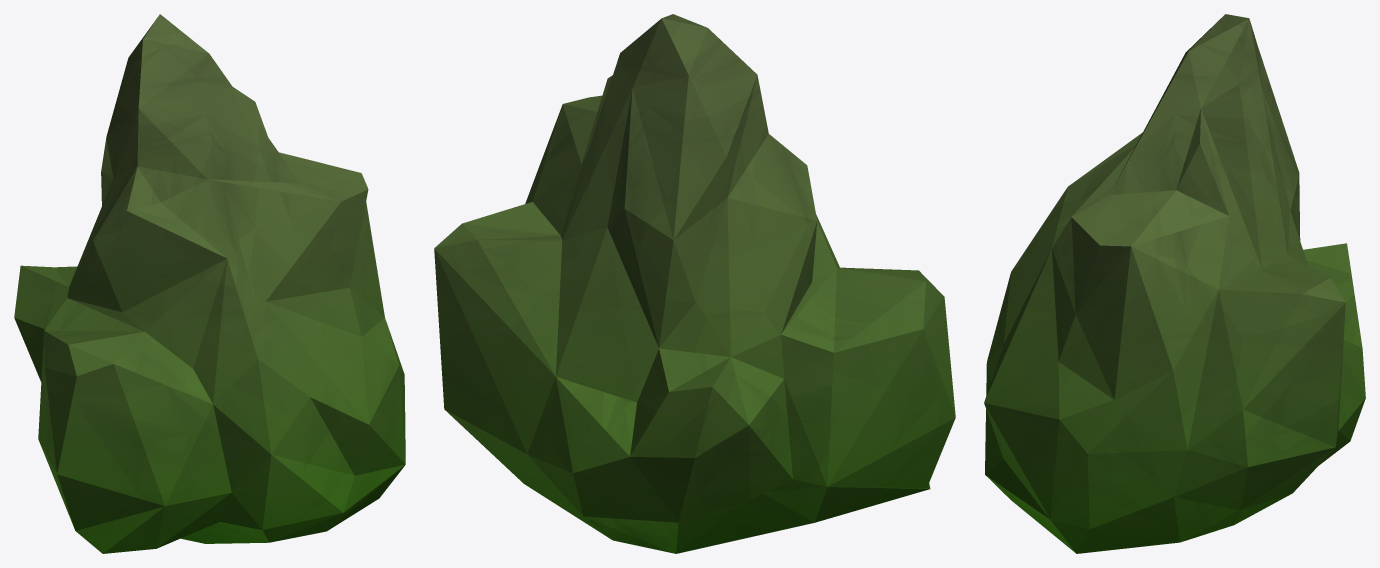
The model's file is synty-plant-bush-01.gltf.
3 renders of one model, left to right at view 1: azimuth 30°, elevation 25°; view 2: azimuth 150°, elevation 25°; view 3: azimuth 270°, elevation 25°, orthographic. The views are drawn at different scales.
Visible parts, largest first — view 1: SM_Plant_Bush_01; view 2: SM_Plant_Bush_01; view 3: SM_Plant_Bush_01.
Boxes of the visible parts, x1,y1,x2,y2 form: SM_Plant_Bush_01: (14,14,405,553); SM_Plant_Bush_01: (434,14,955,553); SM_Plant_Bush_01: (984,14,1365,553).
Size of the model in its own units: 1.61 by 2.04 by 1.41.
1 material, 1 textured.
